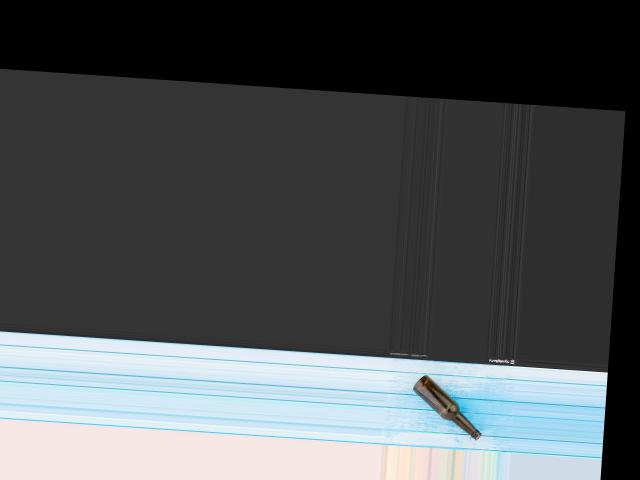beer: (409, 372, 484, 440)
